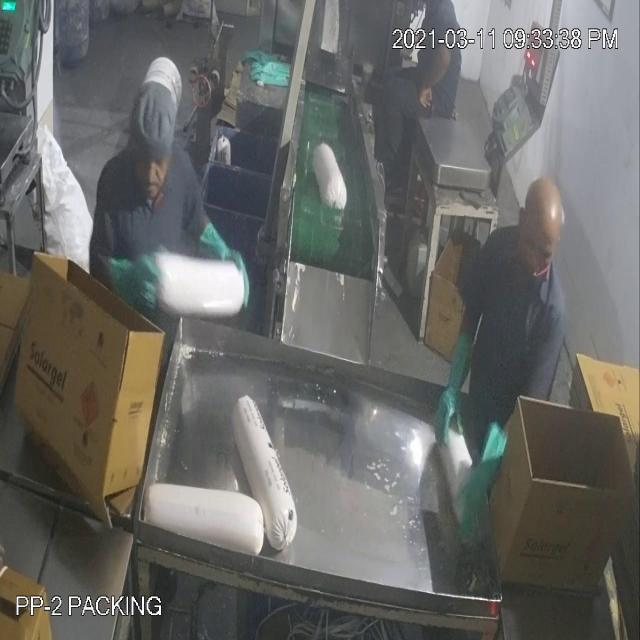No_Gloves: (46, 74, 482, 484)
